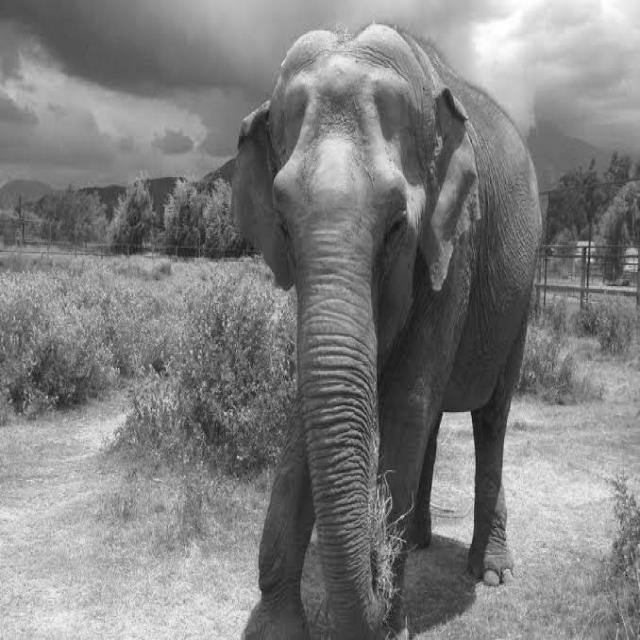Elephant: (229, 19, 544, 638)
